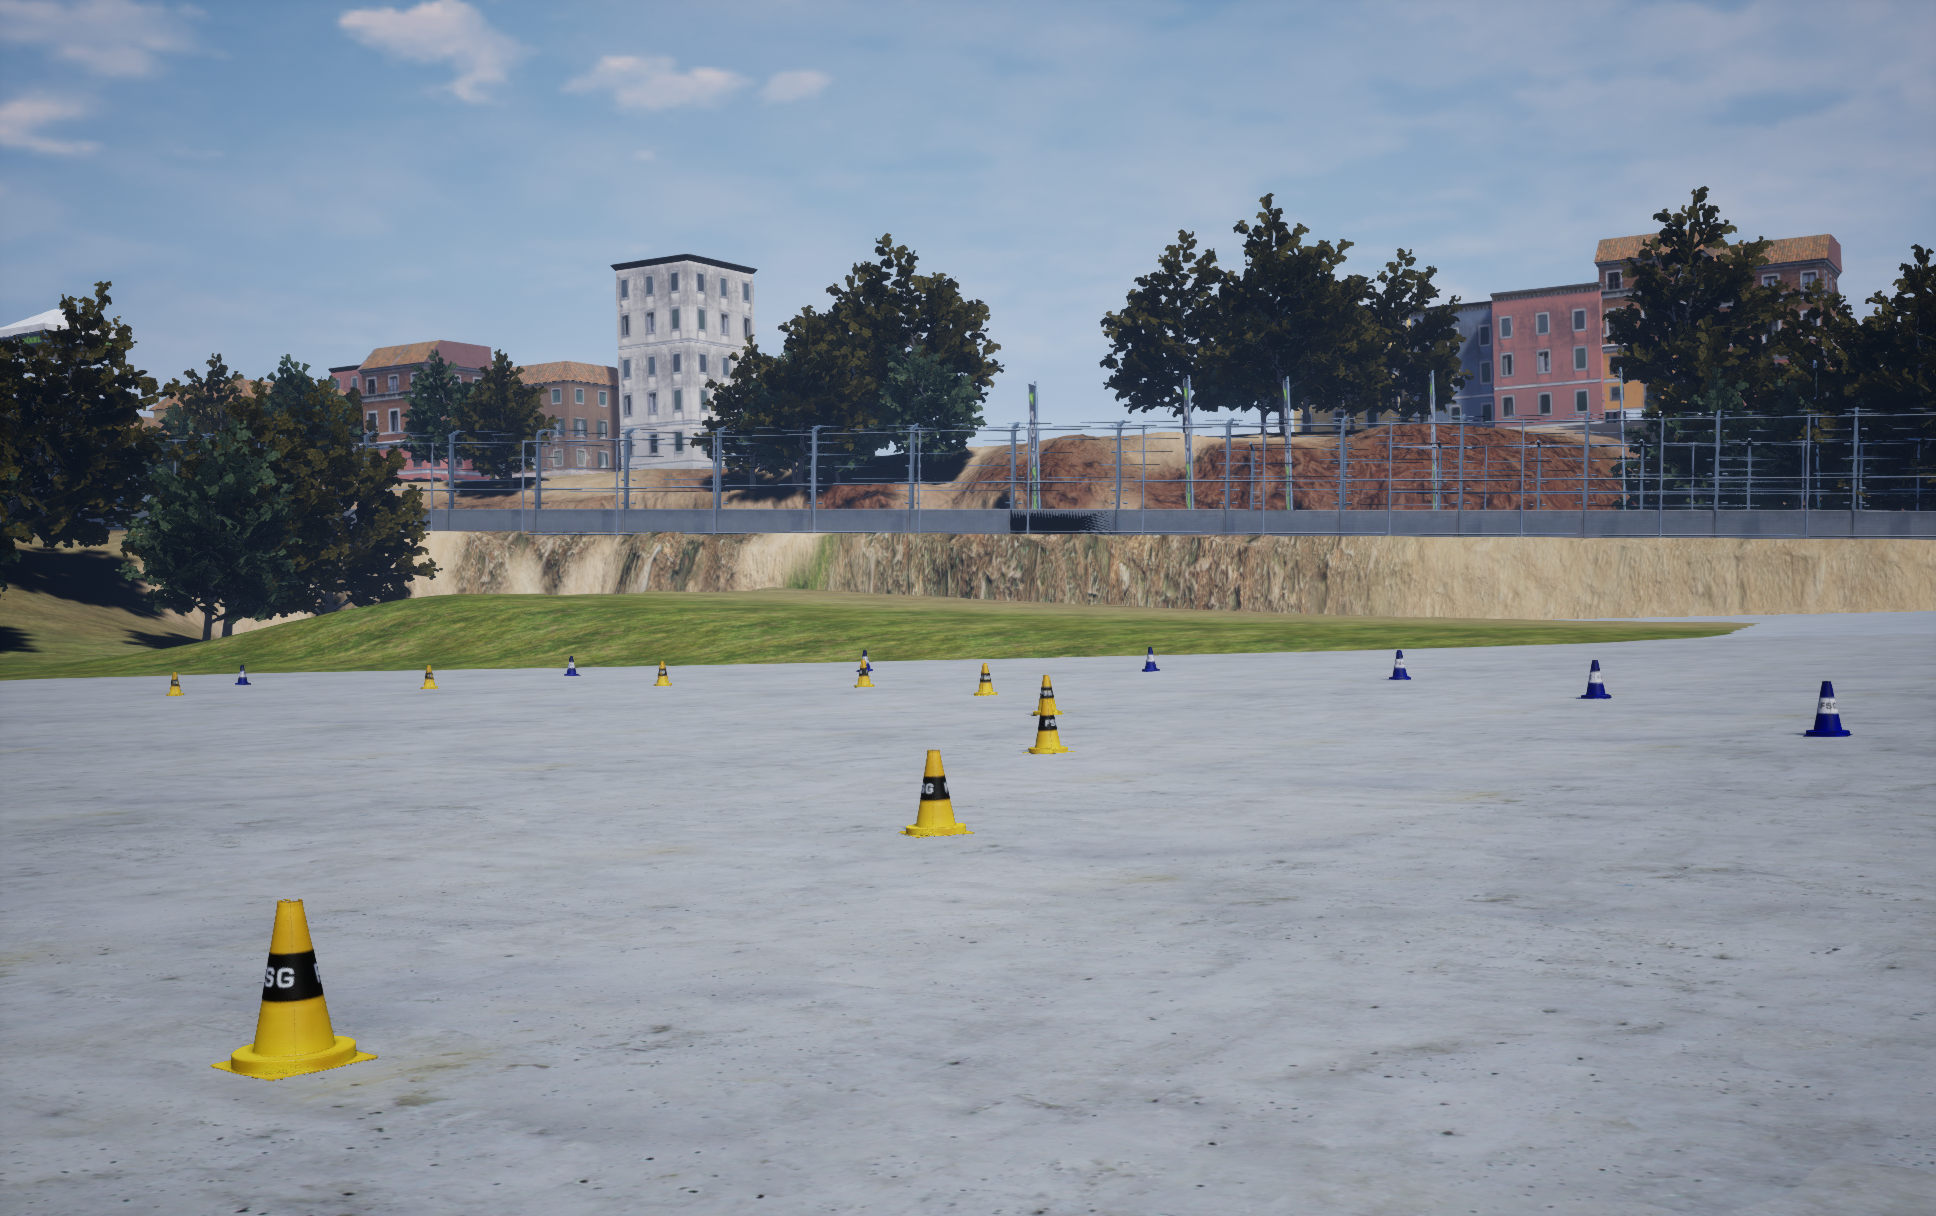blue: (210, 899, 377, 1080), (898, 749, 974, 836), (1023, 698, 1074, 754), (1031, 675, 1063, 714), (974, 663, 997, 695), (855, 658, 874, 686), (165, 672, 184, 695), (420, 665, 438, 688), (654, 661, 671, 685)
yellow: (1803, 681, 1852, 735), (1576, 660, 1611, 698), (1390, 650, 1411, 679), (1142, 647, 1159, 671), (856, 650, 871, 671), (565, 656, 580, 675), (235, 665, 249, 684)
